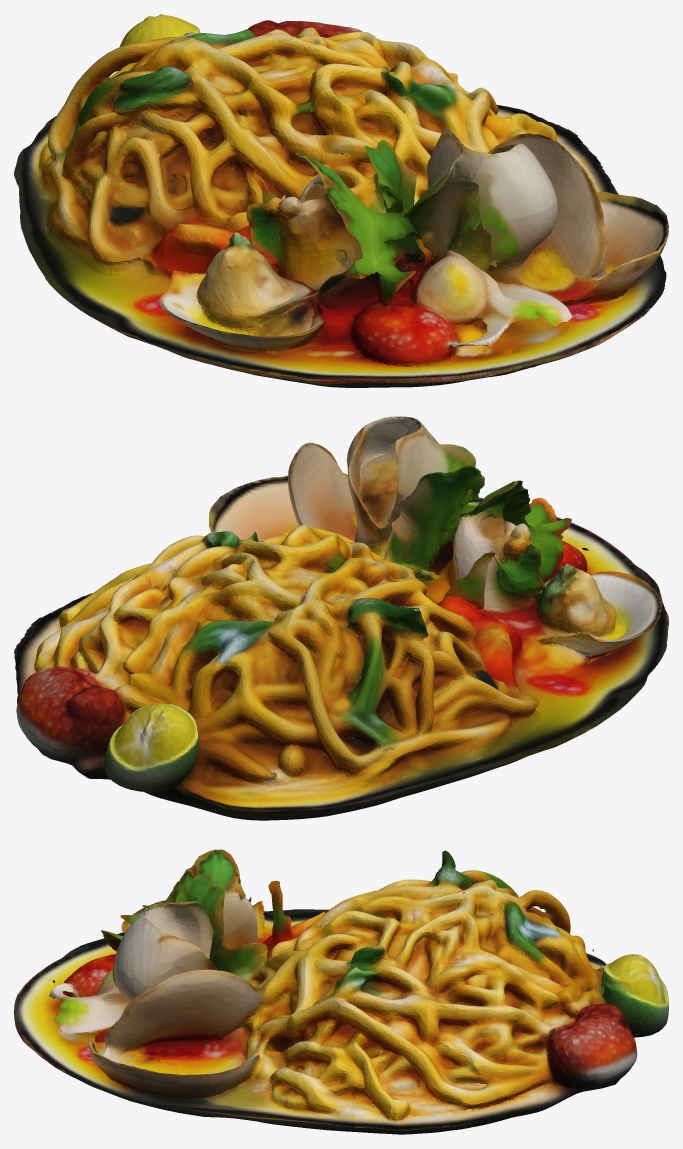
Rendered from lalanoodle.fbx.
3 renders of one model, top to bottom at view 1: azimuth 30°, elevation 25°; view 2: azimuth 150°, elevation 25°; view 3: azimuth 270°, elevation 25°, orthographic. The views are drawn at different scales.
Parts seen in each view (by area): view 1: world; view 2: world; view 3: world.
Part boxes in pixels (x1=…): world: x1=14, y1=14, x2=668, y2=387; world: x1=14, y1=416, x2=668, y2=820; world: x1=14, y1=849, x2=668, y2=1134.
Size of the model in its own units: 79.72 by 25.15 by 100.
